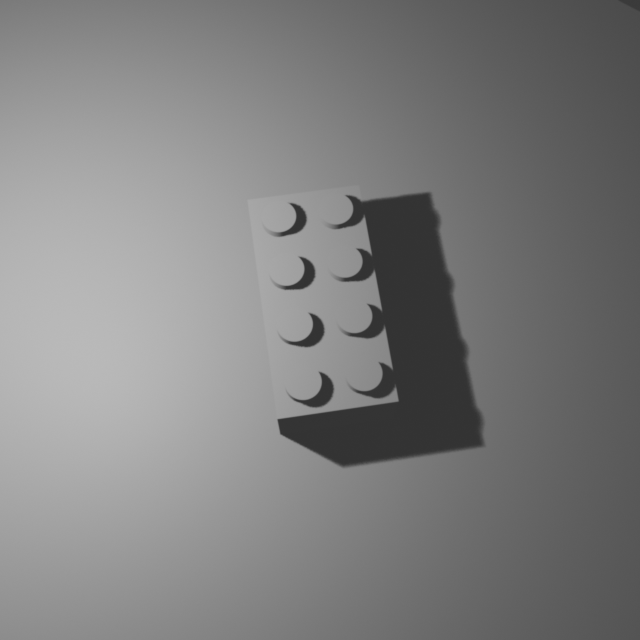lego_2x4: (247, 180, 400, 435)
